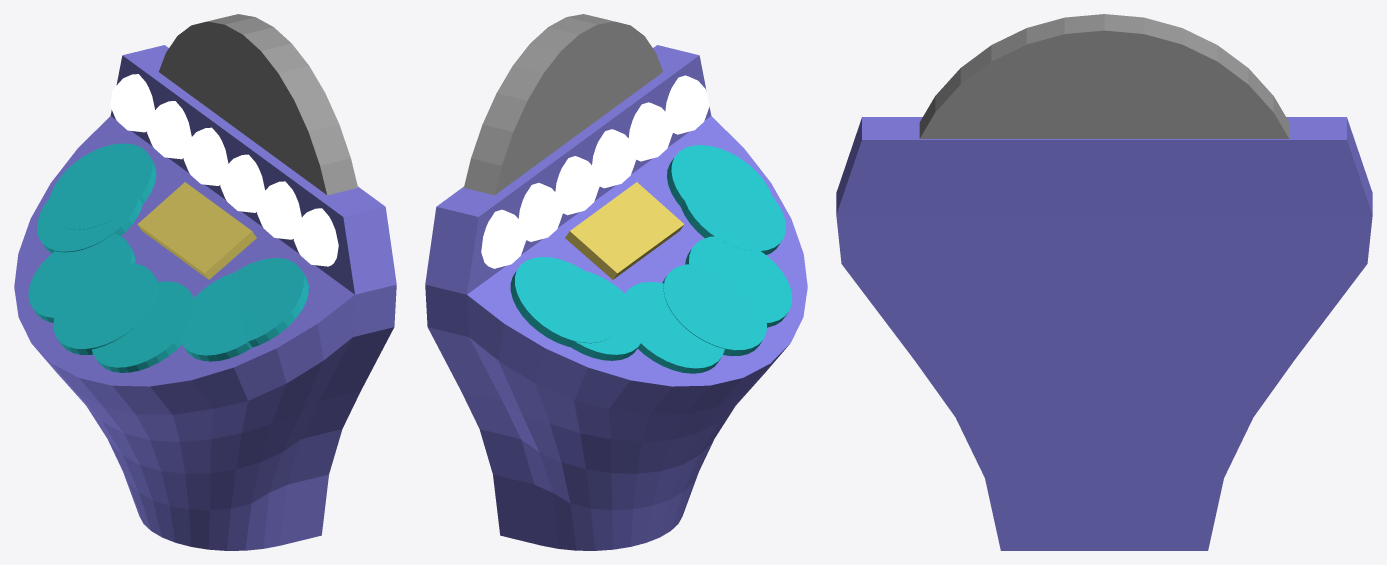
File: booth.glb
3 views of the same model, side by side, from view 1: azimuth 30°, elevation 25°; view 2: azimuth 150°, elevation 25°; view 3: azimuth 270°, elevation 25° (orthographic). The views are drawn at different scales.
Visible parts, largest first — view 1: Base, LoudSpeaker, Button1, Button2.001, PlayButton, Button4, Button3, Button3.001, Button2, Button1.001, Light6, Light1 (+4 smaller); view 2: Base, LoudSpeaker, Button1, Button2.001, PlayButton, Button4, Button2, Button3.001, Button3, Button1.001, Light1, Light5 (+4 smaller); view 3: Base, LoudSpeaker.
Boxes of the visible parts, x1,y1,x2,y2 form: Base: (14, 45, 396, 550); LoudSpeaker: (159, 14, 357, 195); Button1: (49, 143, 156, 229); Button2.001: (53, 263, 157, 354); PlayButton: (137, 182, 256, 279); Button4: (236, 258, 308, 347); Button3: (92, 281, 193, 372); Button3.001: (178, 272, 252, 361); Button2: (28, 233, 135, 322); Button1.001: (37, 198, 142, 253); Light6: (293, 208, 338, 266); Light1: (110, 74, 154, 132); Base: (425, 45, 807, 550); LoudSpeaker: (464, 14, 662, 195); Button1: (510, 257, 617, 347); Button2.001: (662, 264, 766, 356); PlayButton: (565, 182, 684, 279); Button4: (667, 145, 772, 206); Button2: (625, 282, 724, 373); Button3.001: (681, 197, 785, 254); Button3: (685, 236, 792, 327); Button1.001: (571, 271, 644, 360); Light1: (481, 209, 526, 268); Light5: (628, 102, 672, 161); Base: (836, 117, 1372, 550); LoudSpeaker: (919, 14, 1289, 138).
Bounding box in the file's own units: 1.06 × 2.14 × 2.
